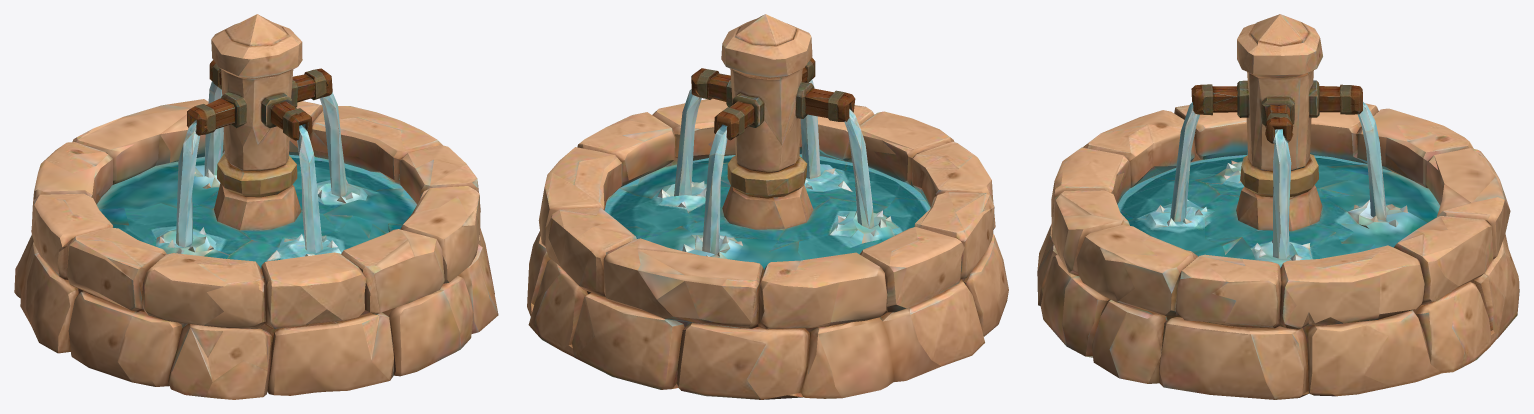
The model's file is alpha-fountain.glb.
3 renders of one model, left to right at view 1: azimuth 30°, elevation 25°; view 2: azimuth 150°, elevation 25°; view 3: azimuth 270°, elevation 25°, orthographic.
Size of the model in its own units: 1.89 by 1.22 by 1.87.
1 material, 1 textured.
